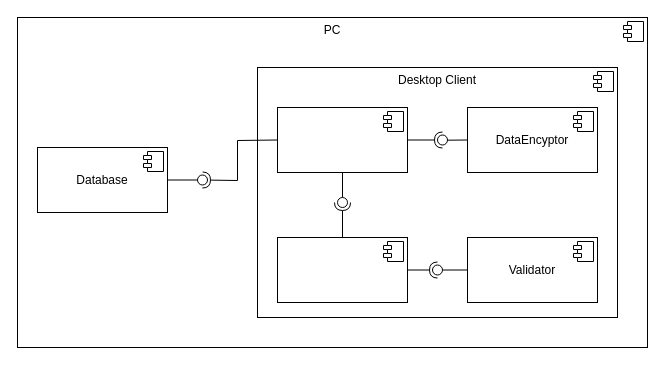
Image size: 665x365. Some labels were removed from this diagram. Here are the shapes that lost their labels. From the top down, the centre of each, then its label:
the point at 342,139: DataStorage
the point at 342,269: Views
